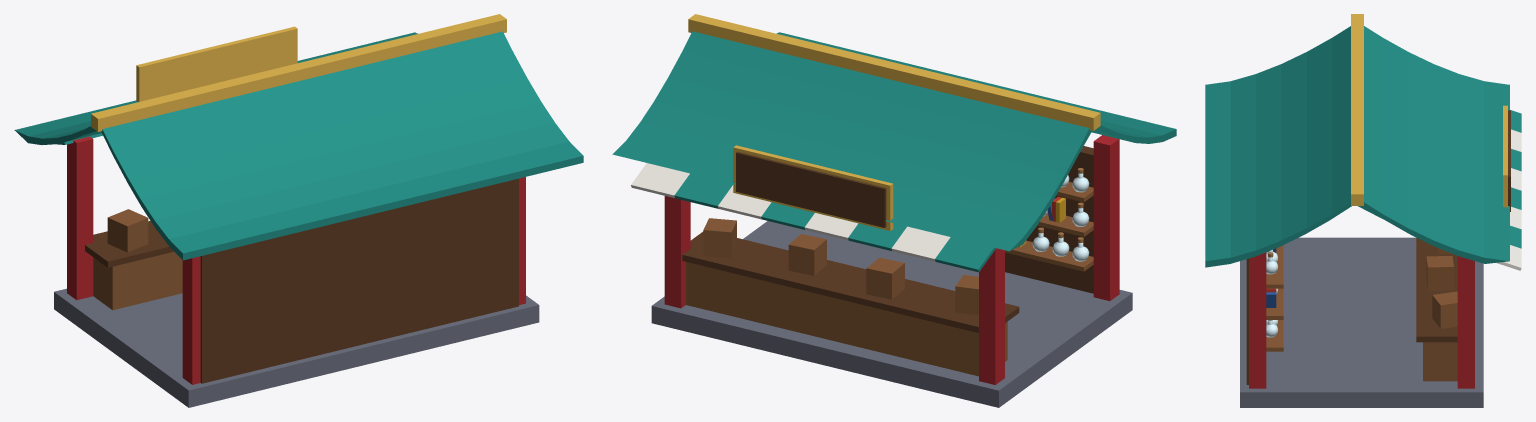
File: shop_v2.glb
3 renders of one model, left to right at view 1: azimuth 30°, elevation 25°; view 2: azimuth 150°, elevation 25°; view 3: azimuth 270°, elevation 25°, orthographic. The views are drawn at different scales.
Visible parts, largest first — view 1: Roof_1F8F86, WoodDark_5C3A22, Stone_6B6F7E, Gold_E6B84A, Pillar_B3262E, Wood_8A5A34; view 2: Roof_1F8F86 (×2), Stone_6B6F7E, Wood_8A5A34, WoodDark_5C3A22, Pillar_B3262E, Gold_E6B84A, Cloth_F4F1EA, Glass_DDF6FF; view 3: Roof_1F8F86 (×2), Stone_6B6F7E, Pillar_B3262E, Wood_8A5A34, Gold_E6B84A, WoodDark_5C3A22, Cloth_F4F1EA, Glass_DDF6FF.
Boxes of the visible parts, bbox=[...] form: Roof_1F8F86: bbox=[14, 31, 583, 260]; WoodDark_5C3A22: bbox=[85, 178, 518, 383]; Stone_6B6F7E: bbox=[54, 288, 539, 407]; Gold_E6B84A: bbox=[91, 14, 506, 131]; Pillar_B3262E: bbox=[67, 136, 525, 384]; Wood_8A5A34: bbox=[93, 209, 182, 310]; Roof_1F8F86 (×2): bbox=[612, 31, 1176, 272]; Stone_6B6F7E: bbox=[651, 221, 1132, 407]; Wood_8A5A34: bbox=[686, 182, 1093, 376]; WoodDark_5C3A22: bbox=[682, 146, 1093, 332]; Pillar_B3262E: bbox=[664, 135, 1119, 384]; Gold_E6B84A: bbox=[688, 14, 1100, 230]; Cloth_F4F1EA: bbox=[631, 163, 950, 261]; Glass_DDF6FF: bbox=[1032, 173, 1089, 261]; Roof_1F8F86 (×2): bbox=[1205, 26, 1521, 267]; Stone_6B6F7E: bbox=[1240, 237, 1483, 407]; Pillar_B3262E: bbox=[1249, 252, 1474, 388]; Wood_8A5A34: bbox=[1266, 245, 1457, 381]; Gold_E6B84A: bbox=[1351, 14, 1507, 207]; WoodDark_5C3A22: bbox=[1246, 110, 1510, 384]; Cloth_F4F1EA: bbox=[1496, 129, 1521, 270]; Glass_DDF6FF: bbox=[1266, 249, 1277, 337].
Bounding box in the file's own units: 35 × 20.54 × 25.97.
